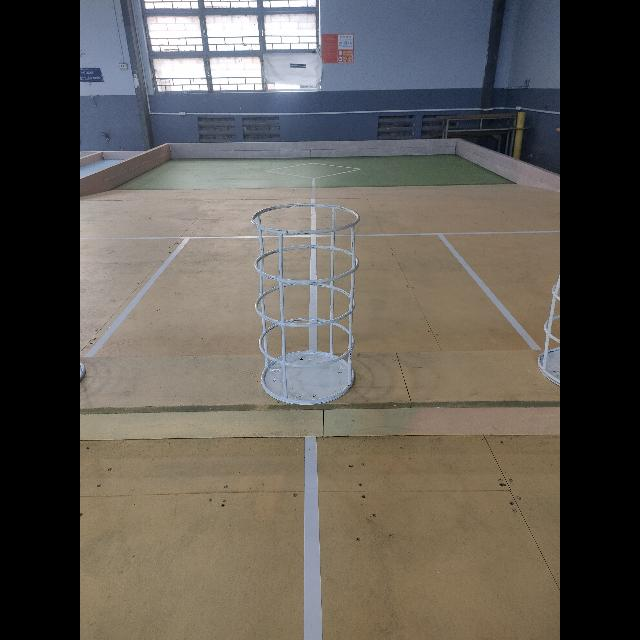S: (250, 203, 361, 405), (535, 267, 560, 387)
